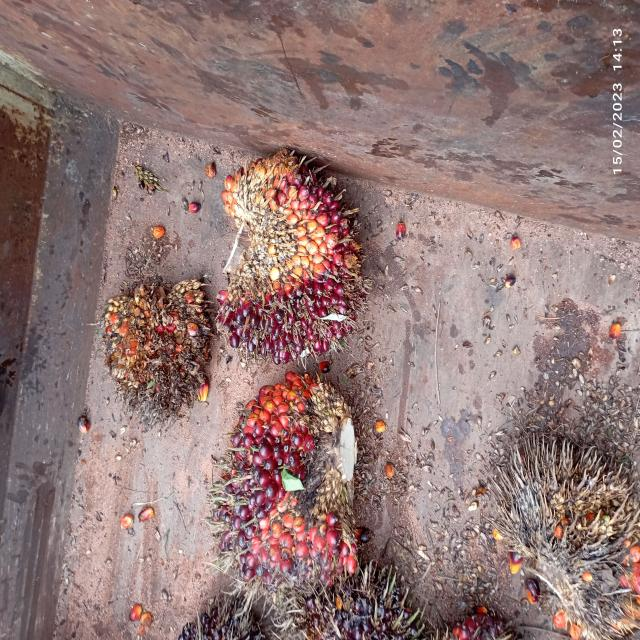fraksi 1: (166, 112, 428, 382)
fraksi 3: (208, 370, 379, 582)
fraksi 4: (81, 256, 228, 432)
